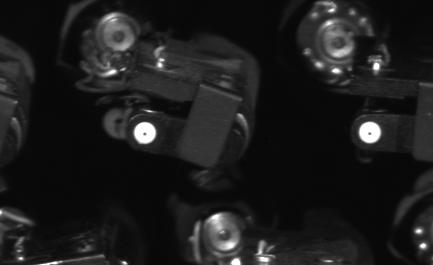fiber: (353, 118, 386, 147), (130, 118, 161, 148)
